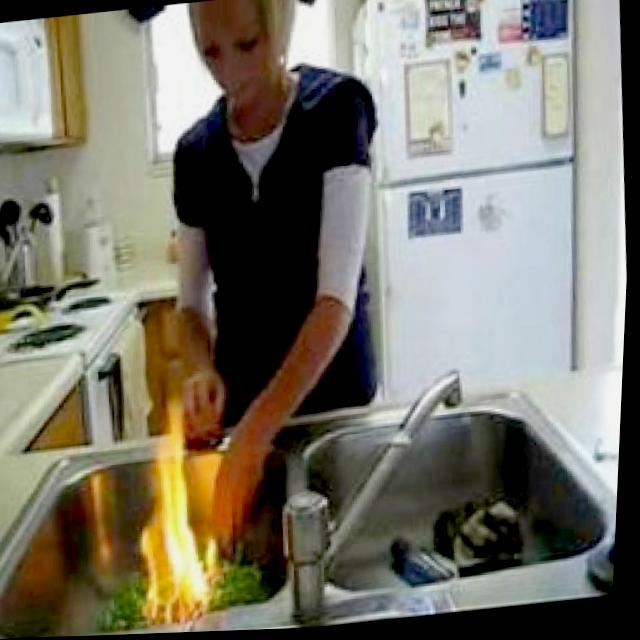helmet: (128, 381, 229, 628)
